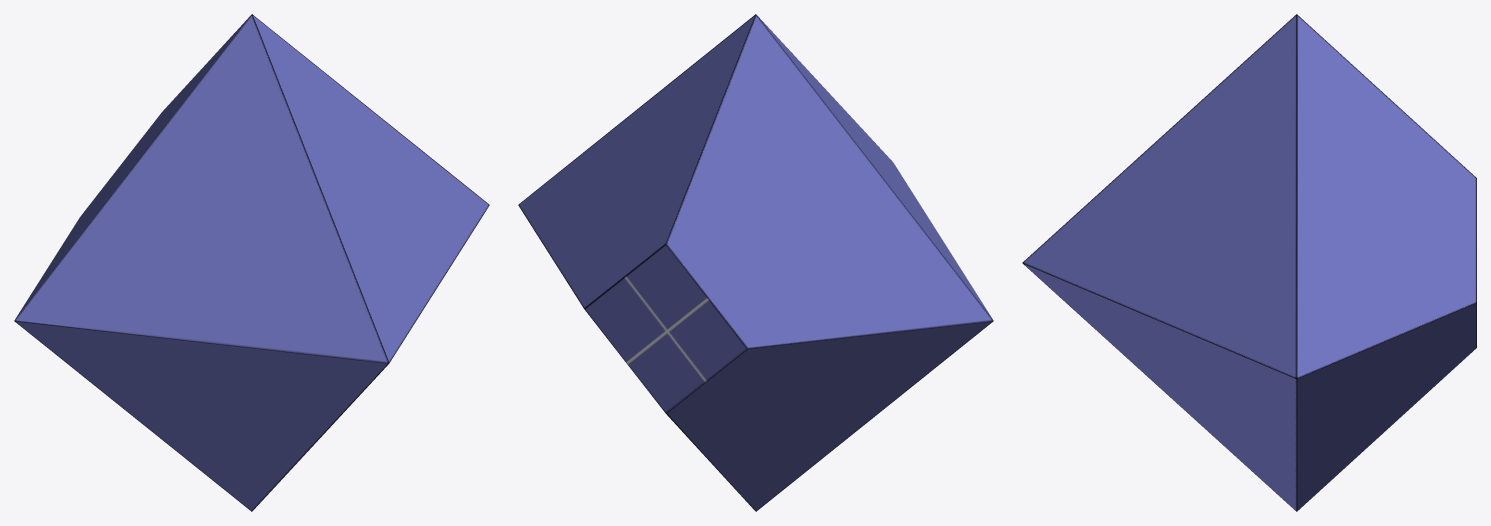
Rendered from enemy.obj.
3 renders of one model, left to right at view 1: azimuth 30°, elevation 25°; view 2: azimuth 150°, elevation 25°; view 3: azimuth 270°, elevation 25°, orthographic.
Visible parts, largest first — view 1: enemy; view 2: enemy; view 3: enemy.
Part boxes in pixels (<box>): enemy: <box>14,14,489,511</box>; enemy: <box>518,14,993,511</box>; enemy: <box>1022,14,1476,511</box>.
Bounding box in the file's own units: 1.8 × 1.8 × 1.49.
Materials: 1 (1 with a texture image).
